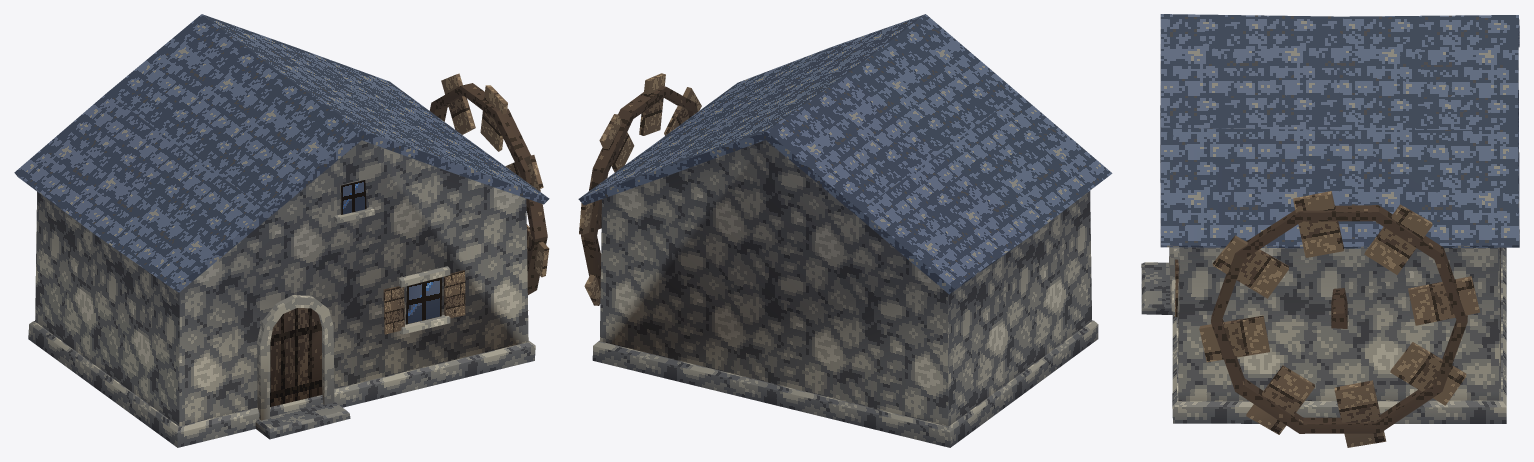
The model's file is vlg.mill__watermill.glb.
3 views of the same model, side by side, from view 1: azimuth 30°, elevation 25°; view 2: azimuth 150°, elevation 25°; view 3: azimuth 270°, elevation 25° (orthographic). The views are drawn at different scales.
Visible parts, largest first — view 1: kit_walls, kit_roof, kit_fittings, kit_stonework, kit_frame; view 2: kit_walls, kit_roof, kit_stonework, kit_fittings, kit_frame; view 3: kit_roof, kit_walls, kit_fittings, kit_frame, kit_stonework.
Part boxes in pixels (x1,y1,x2,y2): kit_walls: (35,140,528,426); kit_roof: (14,14,549,292); kit_fittings: (255,73,549,439); kit_stonework: (28,321,535,447); kit_frame: (429,83,547,294); kit_walls: (600,140,1091,426); kit_roof: (578,14,1112,294); kit_stonework: (592,320,1098,447); kit_fittings: (579,73,701,305); kit_frame: (581,86,697,290); kit_roof: (1160,14,1519,248); kit_walls: (1178,247,1500,401); kit_fittings: (1141,191,1480,447); kit_frame: (1211,205,1467,433); kit_stonework: (1172,247,1506,423).
Size of the model in its own units: 8.17 by 5.5 by 5.85.
Materials: 8 (8 with a texture image).
